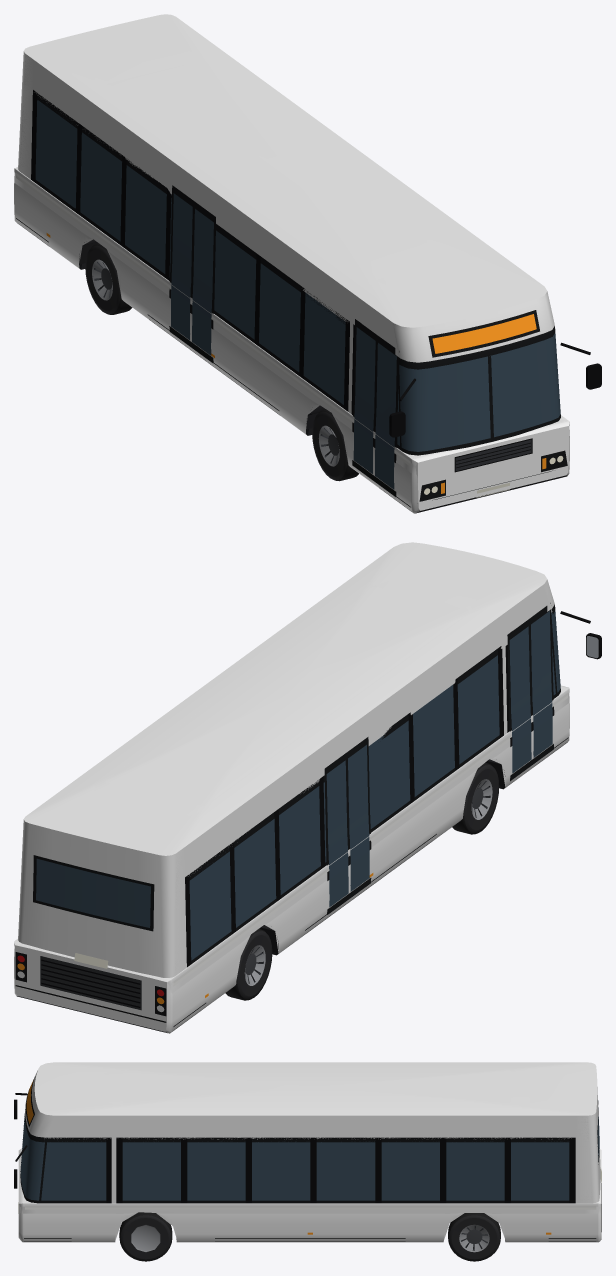
File: bus.glb
3 renders of one model, top to bottom at view 1: azimuth 30°, elevation 25°; view 2: azimuth 150°, elevation 25°; view 3: azimuth 270°, elevation 25°, orthographic. The views are drawn at different scales.
Visible parts, largest first — view 1: Body, BodyLod, Wheel_FR, Wheel_RR; view 2: Body, BodyLod, Wheel_FR, Wheel_RR; view 3: Body, BodyLod, Wheel_RL, WheelLod_FL, Wheel_FL.
Boxes of the visible parts, x1=… form: Body: x1=14, y1=14, x2=601, y2=513; BodyLod: x1=14, y1=51, x2=601, y2=508; Wheel_FR: x1=312, y1=409, x2=358, y2=481; Wheel_RR: x1=85, y1=243, x2=132, y2=314; Body: x1=14, y1=542, x2=601, y2=1033; BodyLod: x1=14, y1=579, x2=599, y2=1015; Wheel_FR: x1=452, y1=762, x2=499, y2=834; Wheel_RR: x1=225, y1=929, x2=272, y2=1000; Body: x1=14, y1=1062, x2=601, y2=1242; BodyLod: x1=18, y1=1068, x2=601, y2=1240; Wheel_RL: x1=448, y1=1213, x2=500, y2=1261; WheelLod_FL: x1=120, y1=1217, x2=170, y2=1258; Wheel_FL: x1=119, y1=1212, x2=172, y2=1261.
Size of the model in its own units: 3.32 by 3.1 by 11.1.
8 materials, 6 textured.
